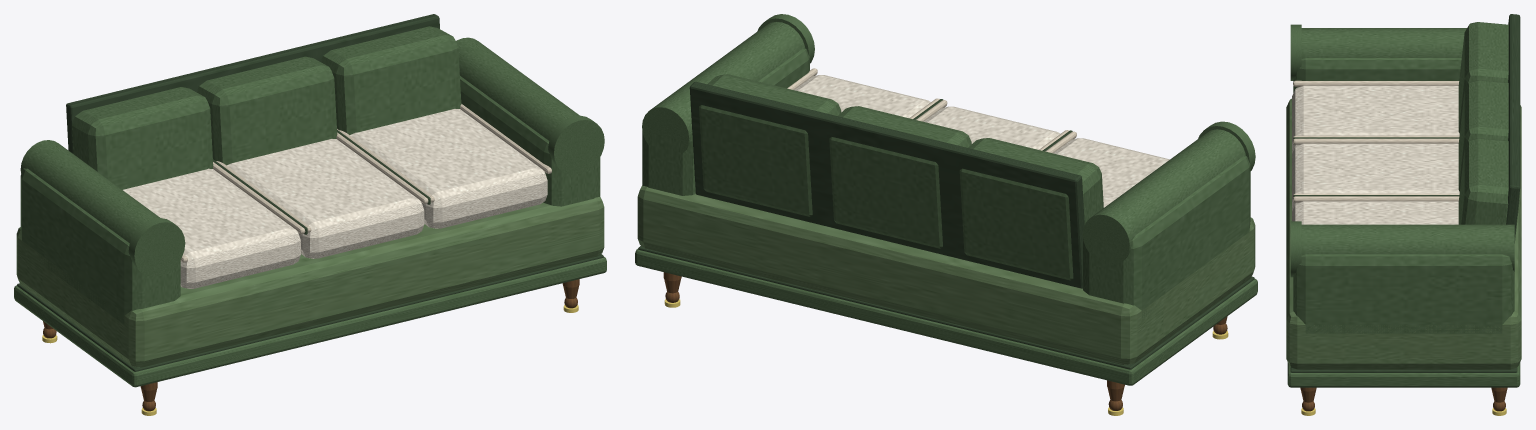
File: sofa.glb
3 renders of one model, left to right at view 1: azimuth 30°, elevation 25°; view 2: azimuth 150°, elevation 25°; view 3: azimuth 270°, elevation 25°, orthographic. The views are drawn at different scales.
Parts seen in each view (by area): view 1: sofa_back, sofa_base, armL, cush1, cush2, cush0, armR, sofa_apron, sofa_cush_gap; view 2: sofa_back, sofa_base, armL, sofa_apron, armR, cush0, cush1, cush2; view 3: armR, sofa_back, sofa_base, cush0, cush1, armL, cush2, sofa_apron, sofa_cush_gap, leg1-1, leg11.
Boxes of the visible parts, <box> form: sofa_back: <box>66,14,461,189</box>; sofa_base: <box>16,197,604,367</box>; armL: <box>20,140,185,324</box>; cush1: <box>216,132,428,258</box>; cush2: <box>337,104,551,228</box>; cush0: <box>123,162,305,288</box>; armR: <box>456,37,604,206</box>; sofa_apron: <box>14,254,606,387</box>; sofa_cush_gap: <box>213,130,430,234</box>; sofa_back: <box>689,74,1103,288</box>; sofa_base: <box>637,185,1255,364</box>; armL: <box>1082,121,1255,319</box>; sofa_apron: <box>635,246,1257,385</box>; armR: <box>642,14,814,195</box>; cush0: <box>1045,131,1169,207</box>; cush1: <box>916,100,1069,150</box>; cush2: <box>787,68,939,118</box>; armR: <box>1290,221,1514,333</box>; sofa_back: <box>1458,14,1520,243</box>; sofa_base: <box>1286,98,1521,369</box>; cush0: <box>1292,80,1459,153</box>; cush1: <box>1292,138,1459,211</box>; armL: <box>1290,24,1466,92</box>; cush2: <box>1292,196,1459,224</box>; sofa_apron: <box>1287,362,1520,387</box>; sofa_cush_gap: <box>1293,137,1459,197</box>; leg1-1: <box>1491,387,1507,415</box>; leg11: <box>1300,387,1316,415</box>.
Size of the model in its own units: 1.9 by 0.855 by 0.85.
Materials: 7 (6 with a texture image).
